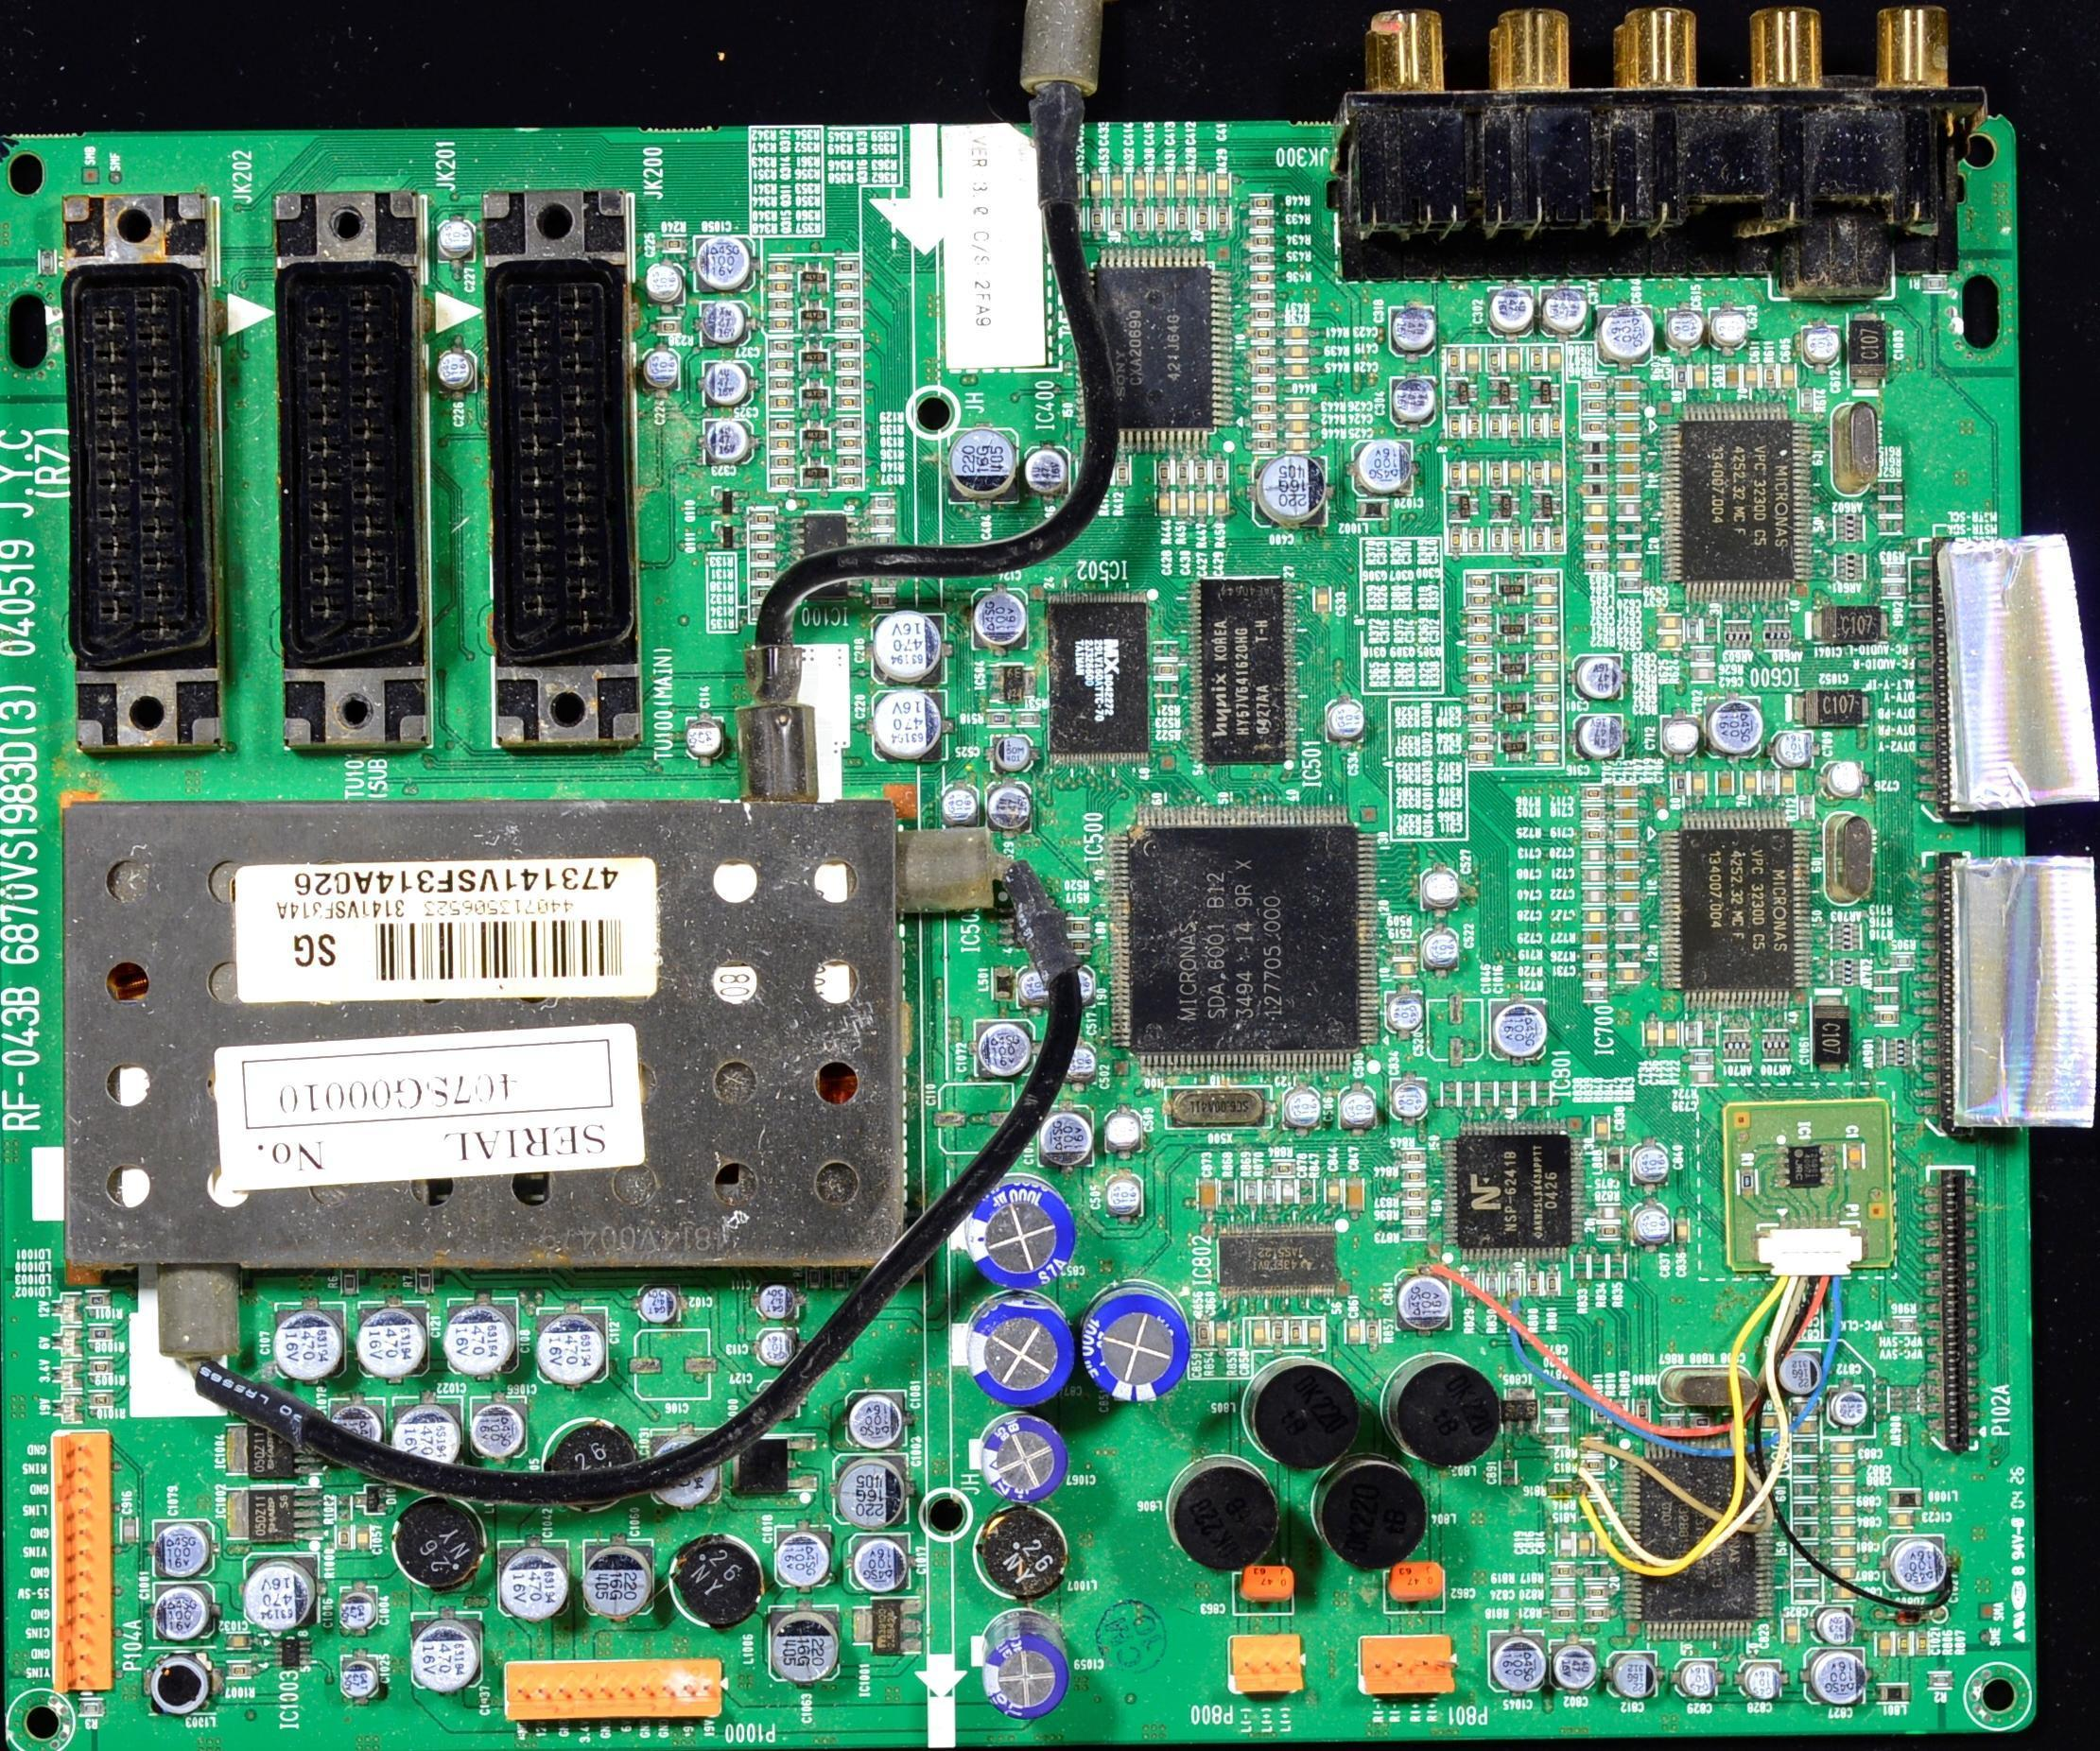Capacitor: (577, 1535, 659, 1636), (407, 1613, 498, 1700), (823, 1457, 928, 1526), (857, 611, 948, 689), (439, 1304, 521, 1387), (264, 1309, 344, 1392), (769, 1604, 842, 1692), (1483, 995, 1564, 1075), (531, 1309, 607, 1395), (244, 1552, 324, 1629), (359, 1309, 432, 1390), (500, 1552, 576, 1627), (944, 433, 1023, 504), (870, 692, 946, 765), (771, 1520, 841, 1591), (843, 1387, 916, 1455), (149, 1512, 223, 1578), (1396, 1271, 1464, 1342), (686, 300, 752, 373), (1018, 427, 1077, 507), (864, 1531, 931, 1600), (967, 587, 1036, 653), (1030, 1107, 1102, 1167), (979, 1027, 1050, 1084), (754, 1275, 820, 1337), (333, 1649, 401, 1708), (151, 1592, 219, 1647), (693, 231, 750, 294), (698, 354, 759, 411), (746, 1317, 815, 1368), (981, 782, 1045, 837), (637, 1271, 690, 1335), (697, 412, 755, 466), (1626, 1135, 1683, 1187), (336, 1594, 393, 1644), (1280, 1072, 1323, 1134), (1416, 927, 1468, 977), (1630, 1198, 1677, 1252), (1338, 1079, 1383, 1133), (635, 351, 695, 391), (991, 730, 1042, 774), (931, 782, 984, 824), (645, 261, 692, 305), (935, 1111, 1009, 1128), (1345, 1177, 1364, 1212), (1200, 1179, 1216, 1208), (1251, 1322, 1268, 1345), (1505, 460, 1522, 484), (1132, 170, 1147, 197), (1286, 419, 1310, 435), (1191, 175, 1209, 197), (1327, 1177, 1341, 1205), (123, 1517, 137, 1544), (1195, 490, 1208, 519), (1279, 1179, 1295, 1203), (1576, 1533, 1592, 1556), (1877, 1632, 1891, 1658), (1848, 1144, 1864, 1169), (1175, 491, 1190, 515), (1314, 588, 1330, 611), (1743, 772, 1759, 795), (1214, 489, 1227, 516), (1506, 346, 1520, 372), (1832, 1586, 1856, 1601), (1285, 343, 1309, 358), (1616, 846, 1640, 861), (1646, 1022, 1659, 1049), (1216, 1322, 1229, 1348), (1596, 1205, 1621, 1219), (1309, 1321, 1323, 1345), (1584, 520, 1608, 534), (1617, 888, 1641, 902), (1501, 1463, 1517, 1485), (1744, 364, 1759, 387), (1692, 365, 1708, 388), (1284, 363, 1310, 376), (1595, 1113, 1607, 1140), (1692, 1070, 1716, 1084), (1832, 1502, 1856, 1517), (355, 1526, 369, 1550), (1616, 786, 1640, 800), (1558, 1534, 1573, 1555), (1285, 324, 1307, 339), (228, 1633, 252, 1646), (1109, 172, 1122, 197), (1090, 172, 1102, 199), (1548, 346, 1561, 371), (1831, 1462, 1854, 1476), (1889, 1512, 1912, 1526), (1833, 1543, 1856, 1557), (1554, 1586, 1577, 1600), (1158, 494, 1172, 516), (1536, 670, 1558, 685), (1583, 910, 1605, 924), (1834, 1565, 1855, 1580), (1394, 962, 1417, 975), (1347, 1319, 1361, 1343), (1288, 439, 1311, 452), (1534, 631, 1557, 644), (1780, 771, 1794, 795), (1175, 169, 1187, 197), (1467, 347, 1479, 372), (1583, 888, 1607, 900), (1726, 365, 1739, 388), (1287, 399, 1310, 412), (1467, 462, 1481, 485), (1584, 502, 1606, 515), (1583, 869, 1605, 882), (1665, 1022, 1677, 1046), (1618, 504, 1641, 516), (1657, 615, 1681, 627), (1534, 709, 1557, 721), (1551, 459, 1562, 485), (1618, 967, 1640, 980), (1619, 559, 1640, 572), (1617, 867, 1639, 880), (1618, 909, 1640, 922), (1833, 1524, 1856, 1536), (1692, 667, 1715, 679), (1692, 772, 1705, 795), (1616, 829, 1639, 841), (1583, 849, 1607, 860), (1785, 1621, 1798, 1642), (1618, 419, 1639, 432), (1781, 365, 1794, 387), (1534, 592, 1555, 604), (1538, 750, 1560, 762), (1719, 771, 1731, 792), (1615, 807, 1637, 820), (1217, 175, 1230, 195), (1615, 401, 1638, 412), (1616, 441, 1639, 452), (1659, 634, 1682, 646), (1584, 931, 1606, 943), (1548, 1395, 1569, 1407), (1833, 1483, 1854, 1496), (1155, 172, 1166, 196), (1676, 1219, 1687, 1241), (1831, 1443, 1854, 1453), (1618, 460, 1639, 472), (1619, 482, 1640, 494), (1618, 380, 1638, 390)
Connector: (33, 234, 283, 737), (449, 237, 660, 758), (260, 205, 432, 763), (52, 1430, 111, 1692), (507, 1662, 720, 1718), (1361, 1638, 1455, 1691), (1230, 1636, 1303, 1690)
IC: (1110, 809, 1372, 1067), (1660, 815, 1808, 1005), (1664, 407, 1807, 597), (1094, 251, 1233, 443), (1444, 1122, 1582, 1261), (1194, 580, 1293, 761), (1049, 592, 1148, 761), (1218, 1223, 1336, 1297), (226, 1489, 324, 1542), (855, 1599, 923, 1654), (1779, 1147, 1832, 1187), (993, 662, 1038, 703), (1504, 1385, 1540, 1433), (274, 1639, 311, 1669)
Resistor: (1489, 528, 1507, 553), (1449, 525, 1465, 553), (1683, 618, 1701, 643), (1672, 771, 1689, 796), (1220, 1181, 1236, 1206), (1243, 1181, 1259, 1206), (1195, 1322, 1211, 1347), (1467, 527, 1483, 553), (1691, 647, 1717, 662), (1536, 728, 1562, 743), (1068, 918, 1090, 936), (1298, 1178, 1313, 1204), (1446, 346, 1461, 372), (1532, 460, 1547, 486), (1173, 460, 1189, 486), (1553, 1563, 1576, 1579), (1486, 347, 1502, 371), (1882, 583, 1905, 599), (337, 1526, 352, 1551), (1132, 206, 1147, 231), (1530, 413, 1545, 438), (1212, 459, 1227, 483), (1507, 527, 1522, 551), (1153, 643, 1177, 658), (1488, 414, 1505, 436), (1464, 415, 1480, 438), (1270, 1321, 1284, 1346), (1930, 1673, 1955, 1688), (771, 393, 796, 407), (1489, 463, 1503, 489), (1261, 1181, 1276, 1205), (338, 1496, 353, 1519), (1088, 209, 1103, 233), (1547, 415, 1562, 439), (1366, 1319, 1380, 1345), (1394, 944, 1418, 958), (1591, 1256, 1605, 1280), (1289, 1321, 1303, 1345), (1798, 390, 1813, 414), (1448, 414, 1462, 439), (1449, 460, 1463, 485), (1618, 520, 1642, 534), (1535, 572, 1559, 586), (1471, 729, 1496, 743), (1741, 1170, 1756, 1193), (1548, 1481, 1571, 1496), (1506, 414, 1521, 437), (1530, 528, 1545, 550), (1536, 613, 1558, 628), (1582, 806, 1605, 821), (1892, 955, 1918, 968), (834, 278, 859, 291), (1194, 460, 1207, 486), (1528, 346, 1542, 370), (1674, 364, 1688, 388), (1535, 690, 1558, 704), (1545, 1274, 1560, 1296), (839, 337, 860, 352), (1761, 365, 1776, 387), (1573, 1255, 1587, 1279), (769, 280, 793, 293), (835, 297, 859, 310), (837, 416, 861, 429), (771, 417, 795, 430), (1157, 460, 1170, 487), (1550, 527, 1563, 551), (1584, 558, 1608, 571), (1535, 649, 1559, 662), (989, 712, 1014, 725), (1609, 1256, 1623, 1278), (1913, 1631, 1927, 1654), (228, 1662, 251, 1676), (1253, 289, 1276, 303), (1252, 400, 1275, 414), (1618, 540, 1640, 554), (752, 567, 774, 581), (773, 473, 794, 488), (1154, 662, 1179, 674), (1155, 680, 1181, 692), (1468, 749, 1494, 761), (1253, 307, 1276, 321), (1705, 619, 1718, 643), (1469, 654, 1493, 667), (1585, 966, 1606, 980), (1253, 346, 1275, 360), (1254, 363, 1276, 377), (1254, 382, 1276, 396), (1761, 772, 1775, 794), (1584, 826, 1605, 841), (1893, 1319, 1918, 1331), (1882, 562, 1906, 574), (1467, 633, 1492, 645), (1485, 1275, 1501, 1295), (838, 315, 860, 328), (1253, 326, 1276, 339), (1879, 482, 1901, 495), (875, 495, 897, 509), (1467, 573, 1490, 586), (1618, 930, 1640, 944), (1216, 210, 1230, 231), (840, 453, 860, 467), (1587, 540, 1607, 554), (1583, 950, 1606, 962), (1195, 207, 1207, 231), (769, 260, 792, 272), (1879, 519, 1902, 531), (752, 548, 775, 561), (770, 298, 795, 309), (1585, 986, 1606, 999), (1703, 1023, 1716, 1045), (1692, 1052, 1713, 1066), (1526, 1274, 1539, 1295), (1253, 272, 1275, 286), (1583, 378, 1605, 391), (1883, 500, 1904, 513), (1469, 710, 1491, 723), (1583, 786, 1605, 799), (1071, 940, 1091, 954), (1684, 1023, 1696, 1046), (1402, 1169, 1425, 1181), (1403, 1225, 1426, 1238), (1553, 1605, 1576, 1618), (1585, 1608, 1609, 1620), (1897, 1631, 1908, 1656), (1250, 216, 1273, 228), (1251, 234, 1274, 247), (837, 259, 859, 271), (838, 376, 860, 389), (771, 377, 795, 389), (870, 513, 894, 525), (751, 530, 773, 543), (873, 533, 895, 546), (1110, 209, 1123, 230), (1584, 399, 1605, 412), (1617, 948, 1640, 960), (1153, 210, 1167, 229), (1923, 277, 1947, 288), (840, 436, 863, 447), (1117, 463, 1128, 487), (1015, 713, 1039, 724), (1800, 797, 1812, 821), (1877, 992, 1899, 1004), (1403, 1151, 1425, 1163), (1506, 1274, 1519, 1295), (1250, 197, 1272, 209), (1175, 206, 1188, 228), (838, 393, 859, 406), (750, 511, 772, 524), (1619, 577, 1640, 589), (1467, 591, 1489, 603), (874, 593, 895, 605), (771, 456, 796, 466), (1548, 1431, 1568, 1445), (1470, 613, 1490, 626), (1598, 1224, 1621, 1236), (1469, 673, 1492, 685), (1253, 252, 1274, 265), (1584, 421, 1605, 433), (1256, 421, 1276, 433), (772, 437, 793, 449), (1256, 439, 1276, 451), (1405, 1189, 1427, 1201), (1583, 1458, 1605, 1469), (769, 358, 790, 370), (1874, 974, 1898, 984), (1404, 1207, 1428, 1218), (770, 319, 793, 329), (1877, 1012, 1897, 1024), (1547, 1414, 1568, 1426), (1585, 1565, 1607, 1575), (839, 359, 859, 371), (839, 474, 859, 485), (1469, 694, 1492, 704), (1587, 1586, 1608, 1597), (771, 340, 790, 352), (751, 586, 769, 598)
Transistor: (1497, 611, 1529, 645), (796, 298, 831, 329), (800, 338, 831, 372), (1446, 377, 1478, 409), (799, 262, 830, 295), (804, 458, 834, 492), (1499, 730, 1529, 763), (800, 421, 832, 451), (1499, 651, 1529, 684), (1530, 491, 1561, 521), (1488, 492, 1519, 522), (1487, 379, 1520, 407), (798, 379, 829, 408), (1530, 378, 1559, 407), (1449, 493, 1478, 522), (1499, 575, 1527, 604), (1501, 693, 1527, 723), (716, 526, 746, 549), (715, 492, 742, 513)
